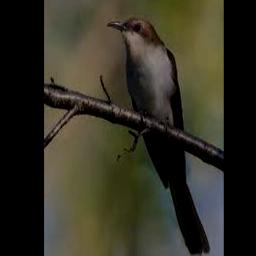Cuckoo: (107, 18, 208, 255)
